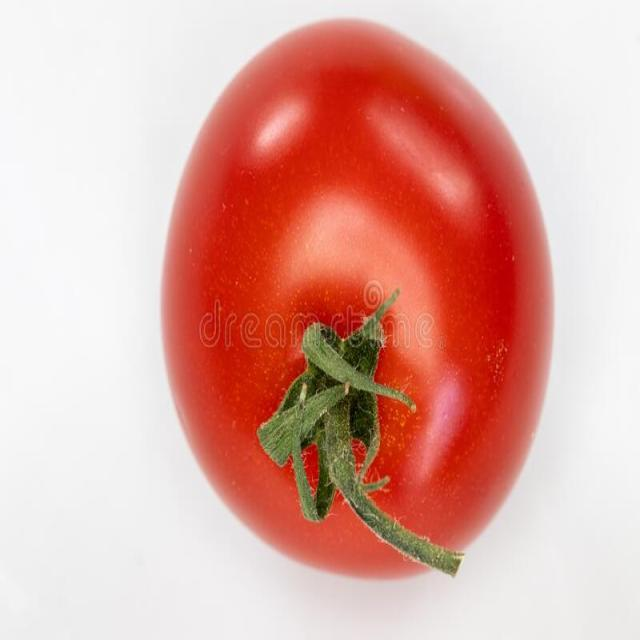kirmizi: (140, 16, 606, 582)
